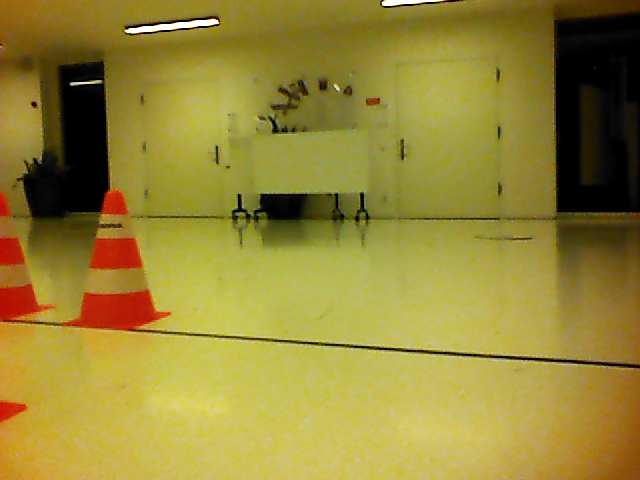orangeconesmall: (80, 189, 157, 324), (1, 181, 39, 313)
